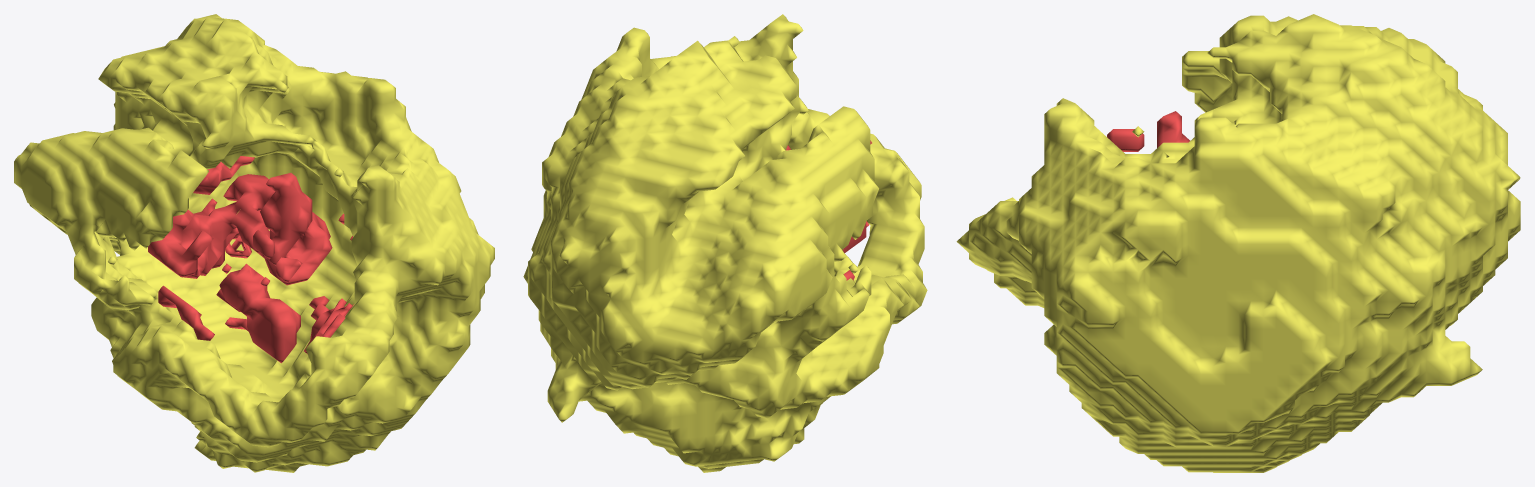
Rendered from tumor_mesh.glb.
3 renders of one model, left to right at view 1: azimuth 30°, elevation 25°; view 2: azimuth 150°, elevation 25°; view 3: azimuth 270°, elevation 25°, orthographic. The views are drawn at different scales.
Visible parts, largest first — view 1: edema, necrotic; view 2: edema; view 3: edema, necrotic.
Boxes of the visible parts, x1=… form: edema: x1=14, y1=14, x2=494, y2=472; necrotic: x1=148, y1=156, x2=353, y2=363; edema: x1=523, y1=14, x2=927, y2=472; edema: x1=956, y1=14, x2=1520, y2=472; necrotic: x1=1107, y1=111, x2=1189, y2=151.
Size of the model in its own units: 30 by 39 by 45.
